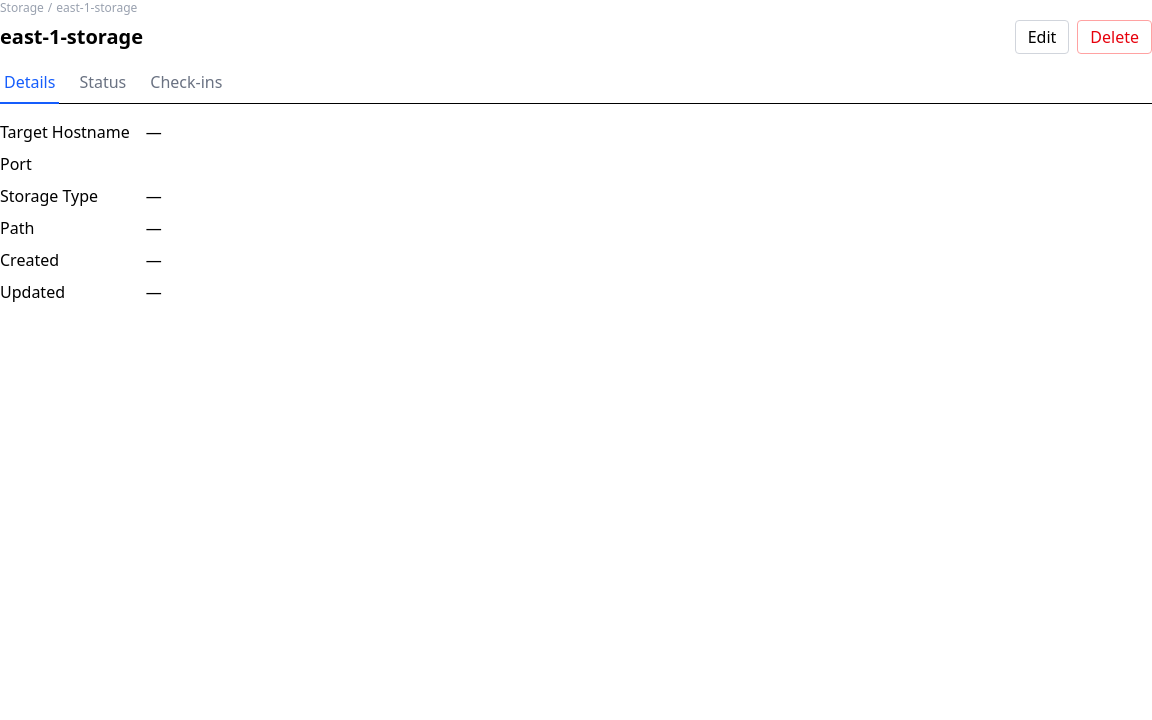
Test: StoragePolicyView › opens the edit modal pre-filled with the policy when Edit is clicked
Click the button with test id "storage-policy-edit": {"x": 1042, "y": 37} [1015,20,1069,54]
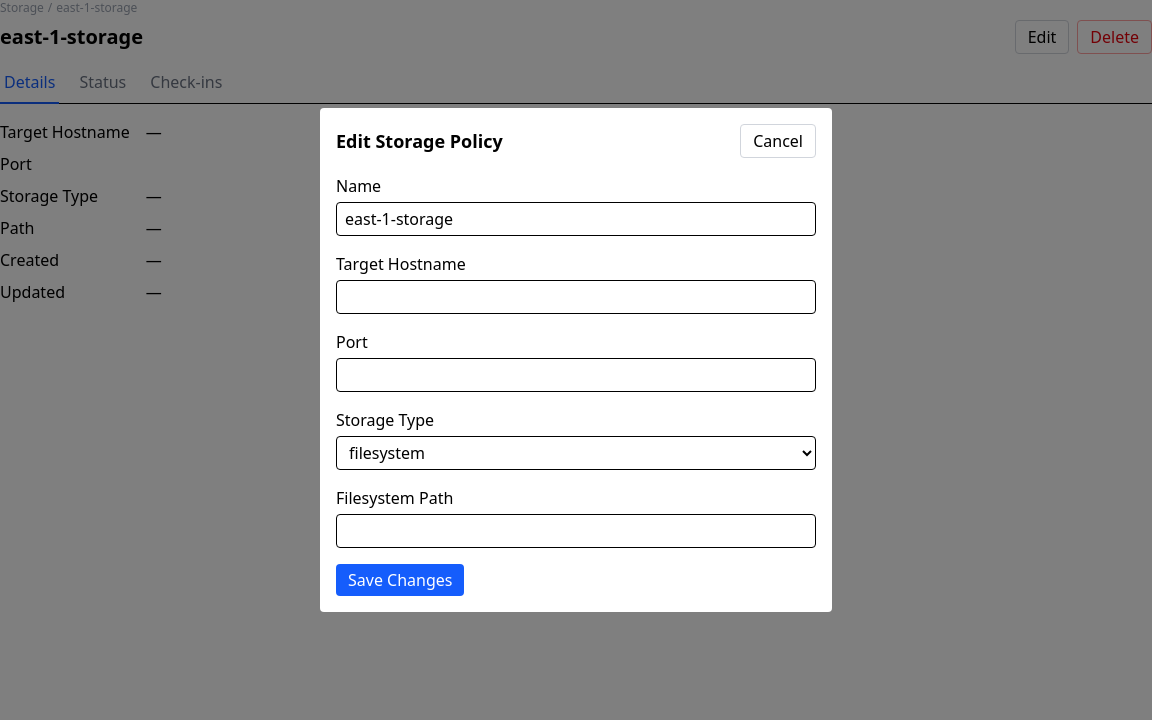
Expected: the element that starts with "Edit Storage Policy" is shown
